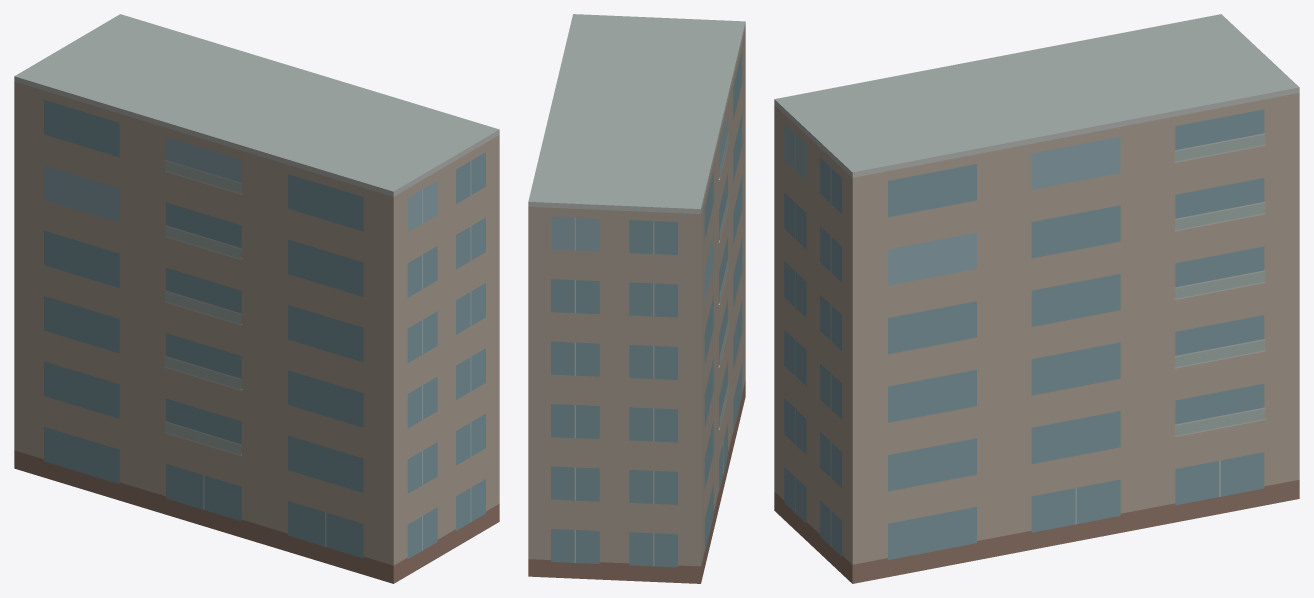
Rendered from survey-upis-32963460.glb.
3 views of the same model, side by side, from view 1: azimuth 30°, elevation 25°; view 2: azimuth 150°, elevation 25°; view 3: azimuth 270°, elevation 25° (orthographic). The views are drawn at different scales.
Parts seen in each view (by area): view 1: survey-upis-32963460.tmp; view 2: survey-upis-32963460.tmp; view 3: survey-upis-32963460.tmp.
Part boxes in pixels (x1=…): survey-upis-32963460.tmp: x1=14, y1=14, x2=499, y2=583; survey-upis-32963460.tmp: x1=528, y1=14, x2=745, y2=583; survey-upis-32963460.tmp: x1=774, y1=14, x2=1299, y2=583.
Bounding box in the file's own units: 15.13 × 18.3 × 21.19.
